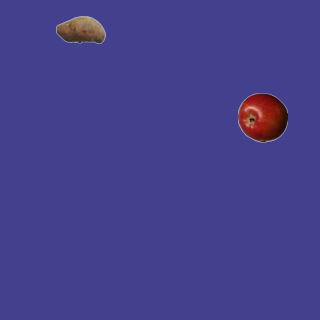Apple Braeburn: (237, 92, 287, 142)
Potato Sweet: (55, 4, 105, 54)
